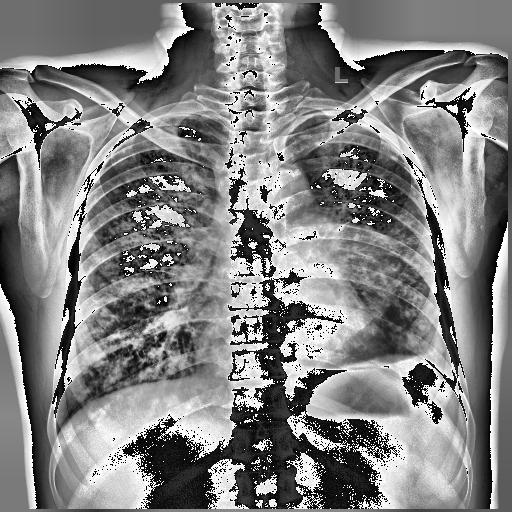10- Pleural effusion: (425, 342, 458, 376), (418, 346, 451, 372)
11- Pleural thickening: (310, 102, 384, 138), (425, 342, 458, 376)
13- Pulmonary fibrosis: (69, 148, 199, 400), (72, 142, 199, 398), (301, 113, 428, 361), (306, 114, 430, 354)
3- Cardiomegaly: (288, 218, 400, 344)
5- ILD: (68, 128, 214, 408), (298, 122, 444, 352), (69, 148, 199, 400), (72, 142, 199, 398), (301, 113, 428, 361), (306, 114, 430, 354)
7- Lung Opacity: (292, 213, 395, 323), (294, 216, 394, 326)
8- Nodule-Mass: (288, 218, 400, 344), (292, 213, 395, 323), (294, 216, 394, 326)
9- Other lesion: (69, 148, 199, 400), (306, 114, 430, 354)
